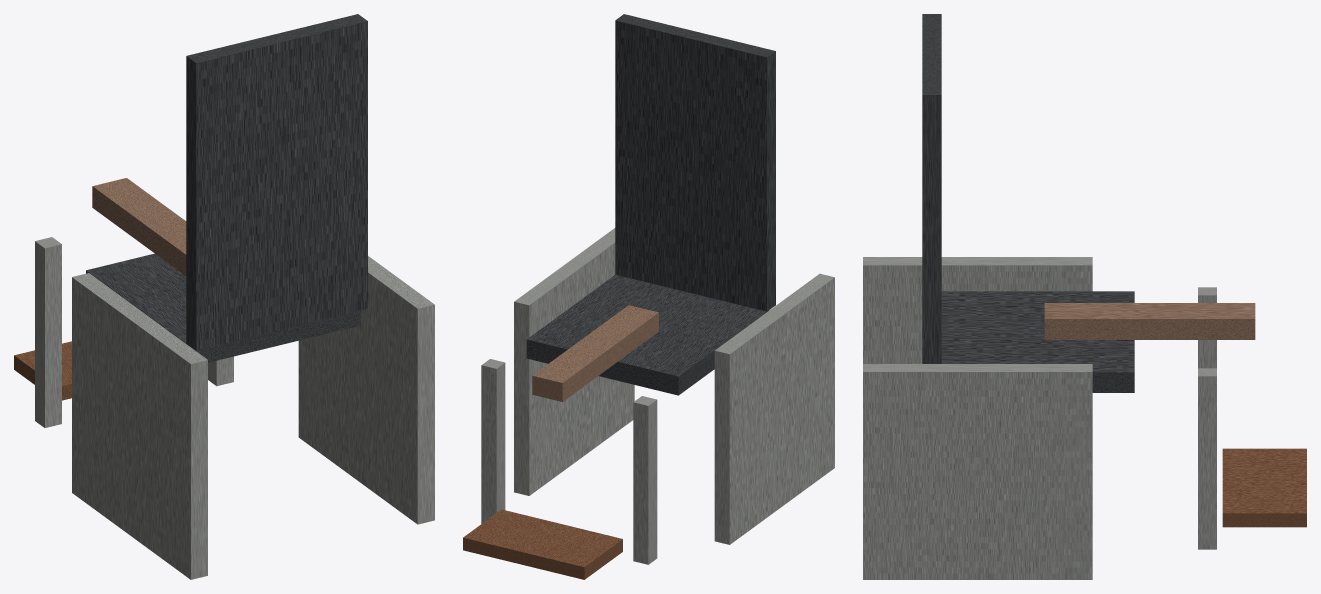
3 views of the same model, side by side, from view 1: azimuth 30°, elevation 25°; view 2: azimuth 150°, elevation 25°; view 3: azimuth 270°, elevation 25° (orthographic). The views are drawn at different scales.
Visible parts, largest first — view 1: synthetic; view 2: synthetic; view 3: synthetic.
Boxes of the visible parts, x1,y1,x2,y2 form: synthetic: (14, 14, 434, 579); synthetic: (463, 14, 834, 579); synthetic: (863, 14, 1306, 579).
Size of the model in its own units: 2.27 by 4.32 by 3.71.
1 material, 1 textured.
